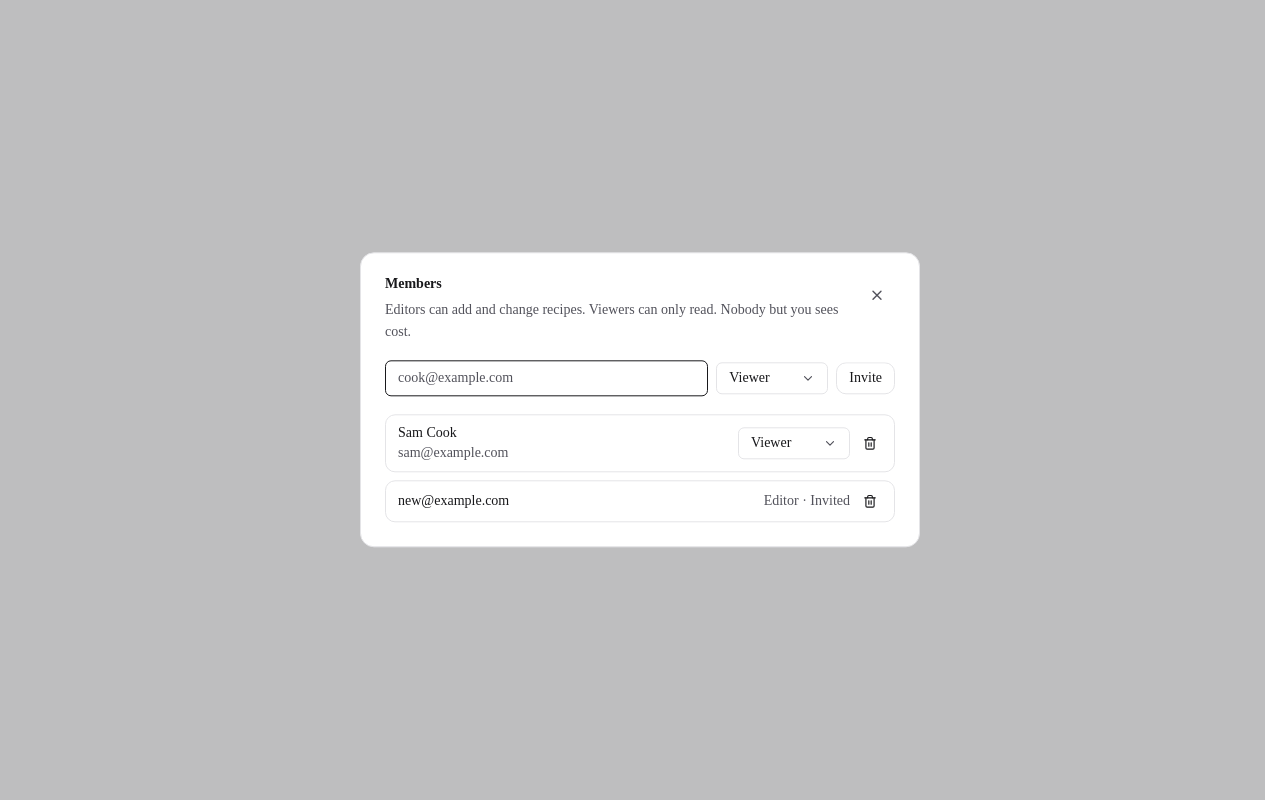
Test: the members dialog › shows why a row write did not land
Expected: the text "Sam Cook" is shown, [398,426,457,441]
Click the button named "Remove Sam Cook" at (870, 444), box [858,432,882,456]
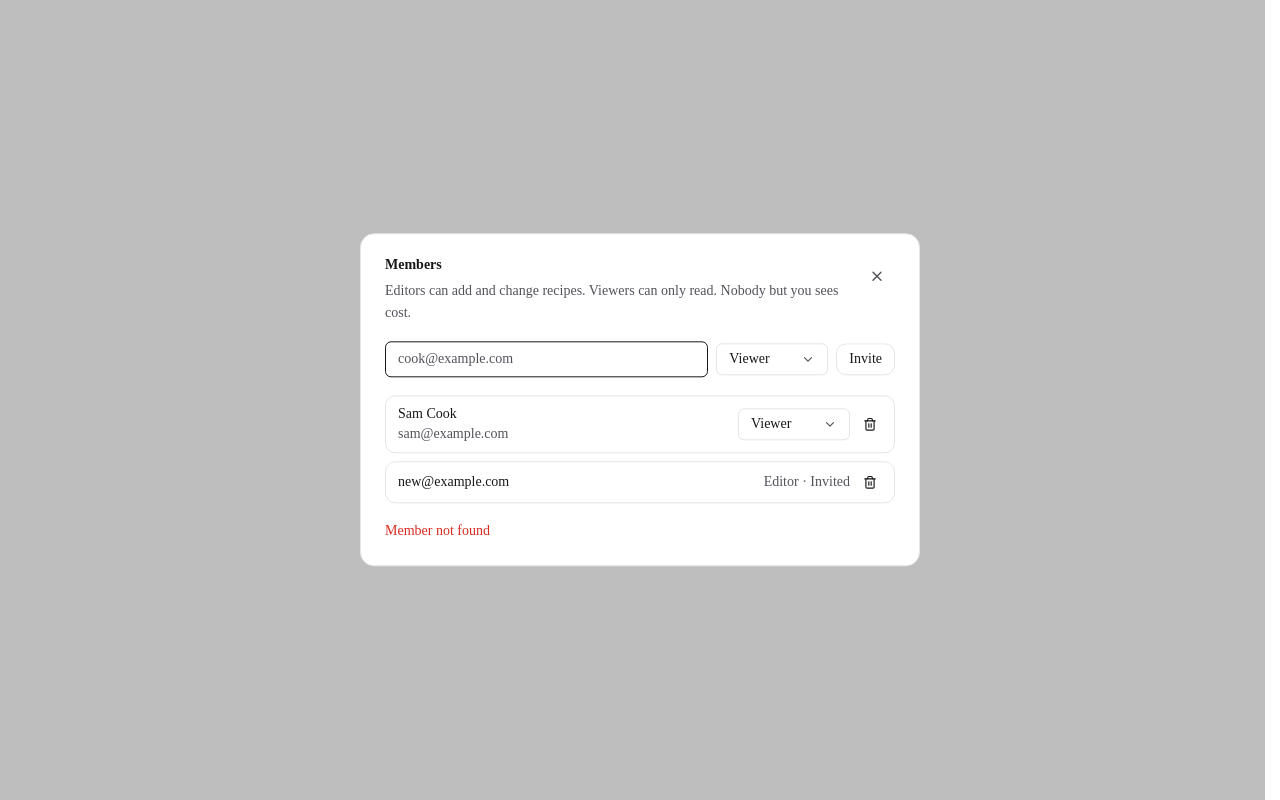
Expected: the message reads "Member not found", [385,524,490,539]
